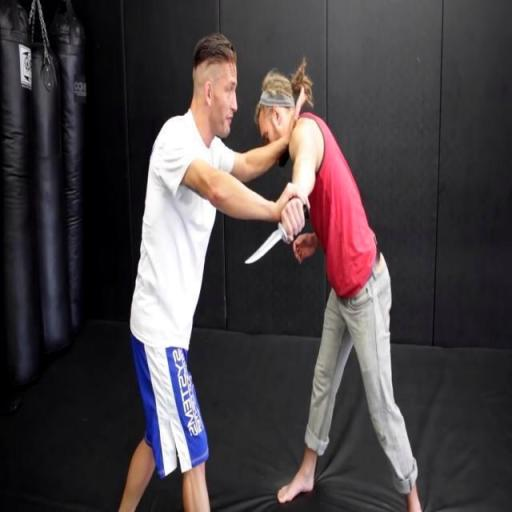knife: (238, 202, 310, 275)
